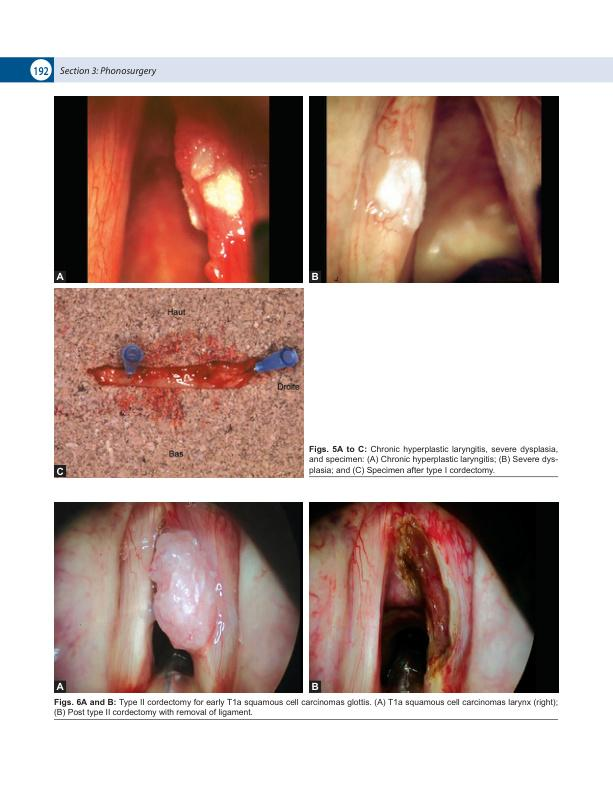caption: (53, 697, 559, 718), (308, 444, 560, 476), (310, 681, 320, 692), (55, 271, 65, 281), (55, 466, 65, 476), (55, 682, 65, 691), (310, 272, 319, 281)
header: (59, 66, 158, 77)
image: (53, 501, 303, 694), (308, 501, 559, 693), (53, 287, 304, 478), (308, 95, 559, 284), (54, 96, 303, 283)
